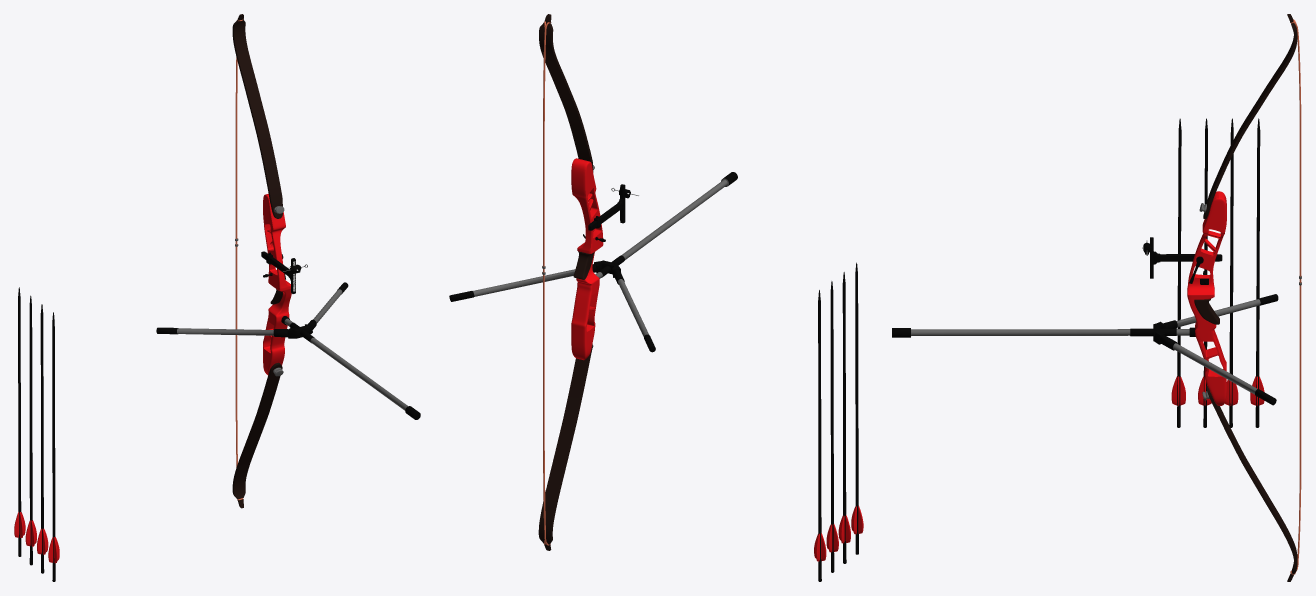
Rendered from vals_bow.glb.
3 renders of one model, left to right at view 1: azimuth 30°, elevation 25°; view 2: azimuth 150°, elevation 25°; view 3: azimuth 270°, elevation 25°, orthographic. The views are drawn at different scales.
Parts seen in each view (by area): view 1: Upper_limb, Riser, Lower_limb, Cylinder001_1, String, Cylinder005, Cylinder001, Cylinder014, Cylinder002, Cylinder010; view 2: Riser, Lower_limb, Cylinder001_1, Upper_limb, String, Cylinder014, Cylinder005, Cylinder010, Cylinder002, Cylinder001; view 3: Riser, Cylinder001_1, String, Upper_limb, Cylinder001, Lower_limb, Cylinder010, Cylinder005, Cylinder014, body.
Boxes of the visible parts, x1,y1,x2,y2 form: Upper_limb: (232, 14, 282, 218); Riser: (263, 193, 291, 375); Lower_limb: (232, 362, 282, 508); Cylinder001_1: (177, 289, 407, 410); String: (235, 19, 243, 500); Cylinder005: (29, 295, 32, 565); Cylinder001: (156, 282, 420, 419); Cylinder014: (52, 312, 55, 581); Cylinder002: (40, 304, 44, 573); Cylinder010: (18, 287, 21, 556); Riser: (571, 158, 603, 360); Lower_limb: (538, 345, 592, 550); Cylinder001_1: (473, 178, 728, 336); Upper_limb: (539, 14, 593, 172); String: (543, 21, 550, 545); Cylinder014: (855, 262, 858, 554); Cylinder005: (830, 281, 834, 572); Cylinder010: (818, 290, 821, 581); Cylinder002: (842, 272, 846, 563); Cylinder001: (449, 172, 737, 352); Riser: (1187, 191, 1226, 405); Cylinder001_1: (911, 299, 1260, 394); String: (1290, 19, 1301, 574); Upper_limb: (1203, 14, 1297, 219); Cylinder001: (892, 294, 1278, 405); Lower_limb: (1206, 386, 1297, 581); Cylinder010: (1255, 118, 1260, 427); Cylinder005: (1229, 118, 1233, 427); Cylinder014: (1177, 118, 1181, 427); body: (1150, 237, 1222, 278).
Bounding box in the file's own units: 1.25 × 1.73 × 1.13.
